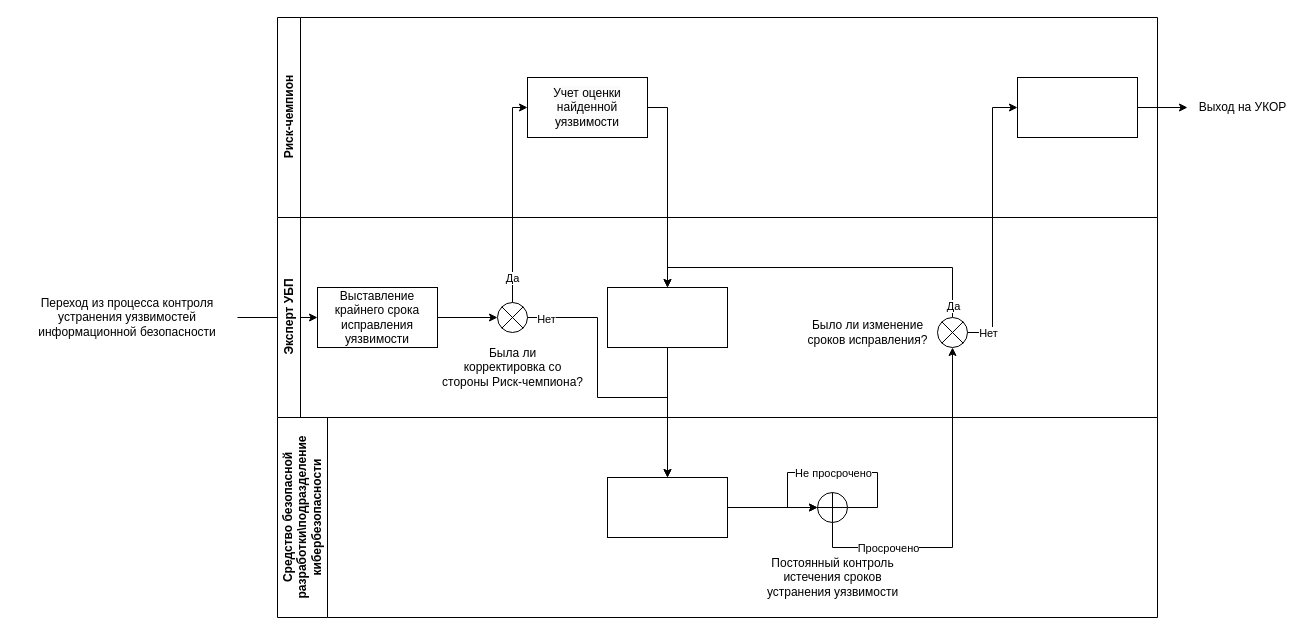
Some shapes in this 1314 by 635 pixel diagram are drawn without their labels. Each missing label, with the centre of its shape:
"Информирование об истечении сроков" goes at (1077,107).
"Корректировка выставленной ранее оценки" goes at (667,317).
"Постановка задачи на контроль сроков" goes at (667,507).
